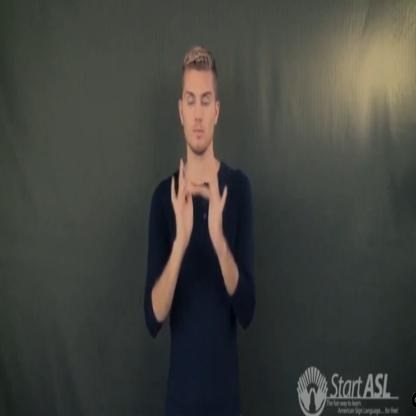Internet: (170, 138, 229, 256)
